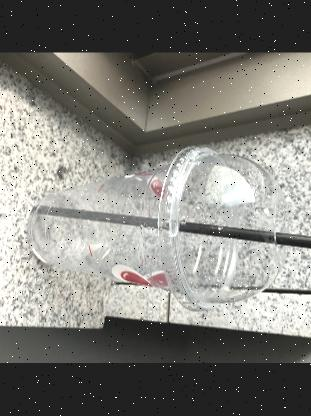Others: (16, 142, 308, 312), (154, 147, 286, 312), (28, 207, 311, 252)
